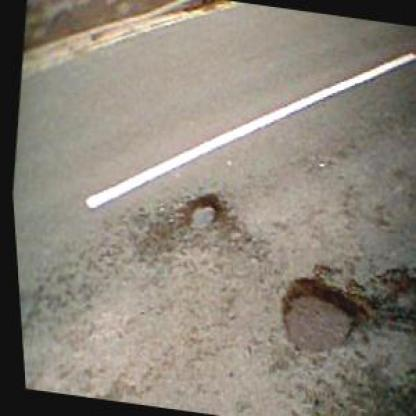pothole: (268, 269, 359, 363), (176, 186, 223, 238)
